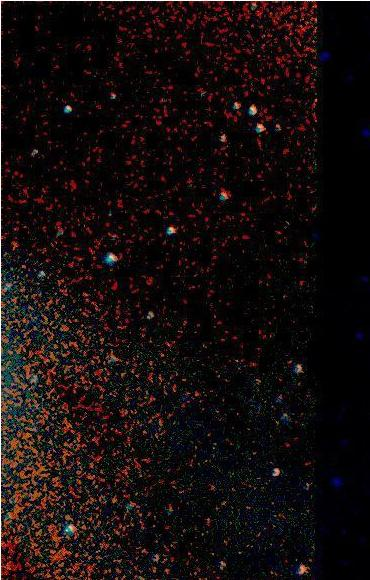star: (101, 484, 131, 514)
